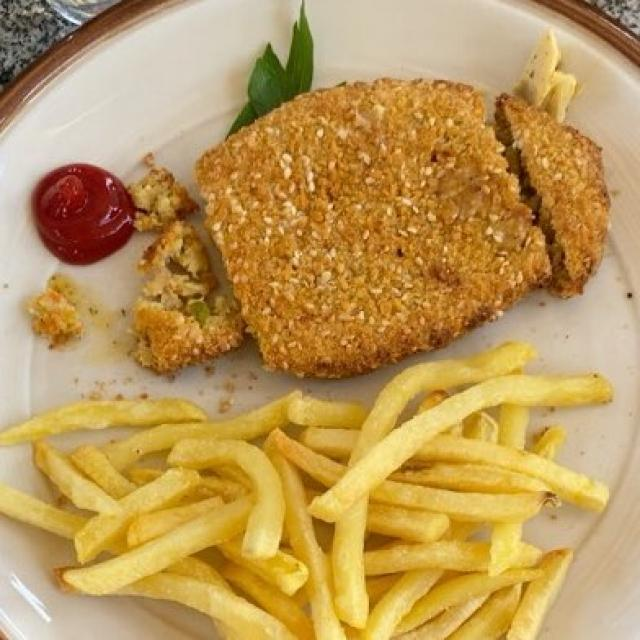chips-french-fries: (19, 354, 595, 633)
ketchup: (37, 165, 133, 263)
